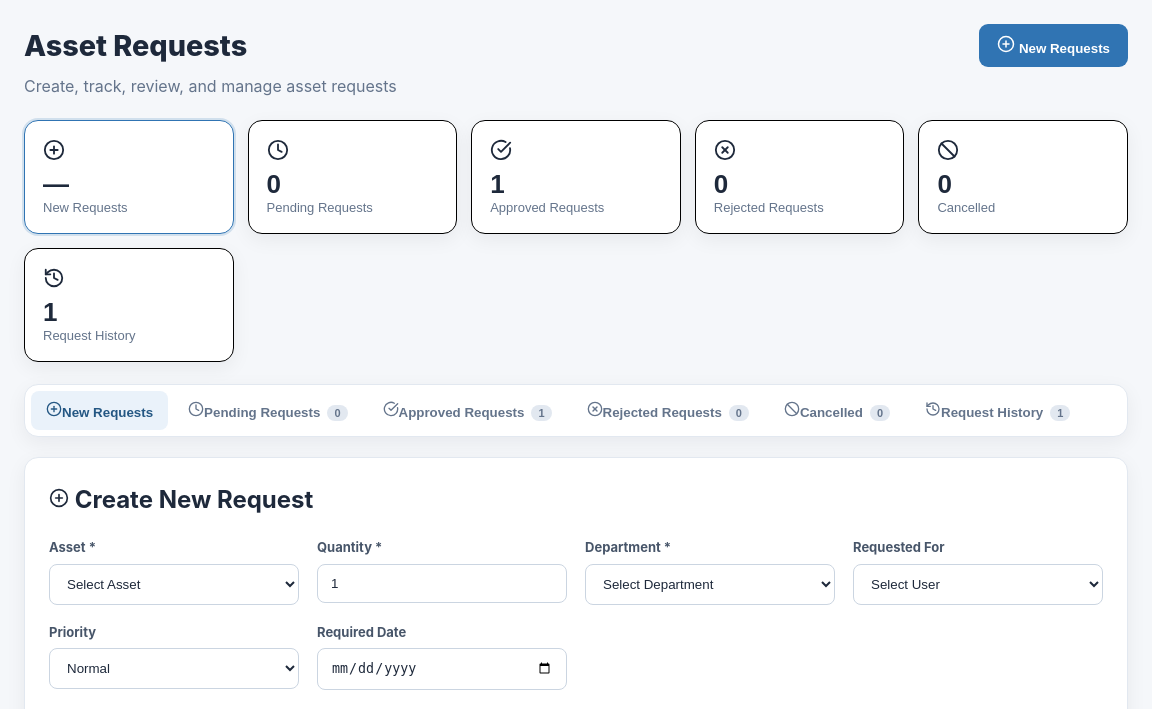
Test: cancels an approved request with a reason and refreshes its status
Click the tab with aria-label "Approved Requests tab". click: (467, 411)
box: [368,391,566,430]
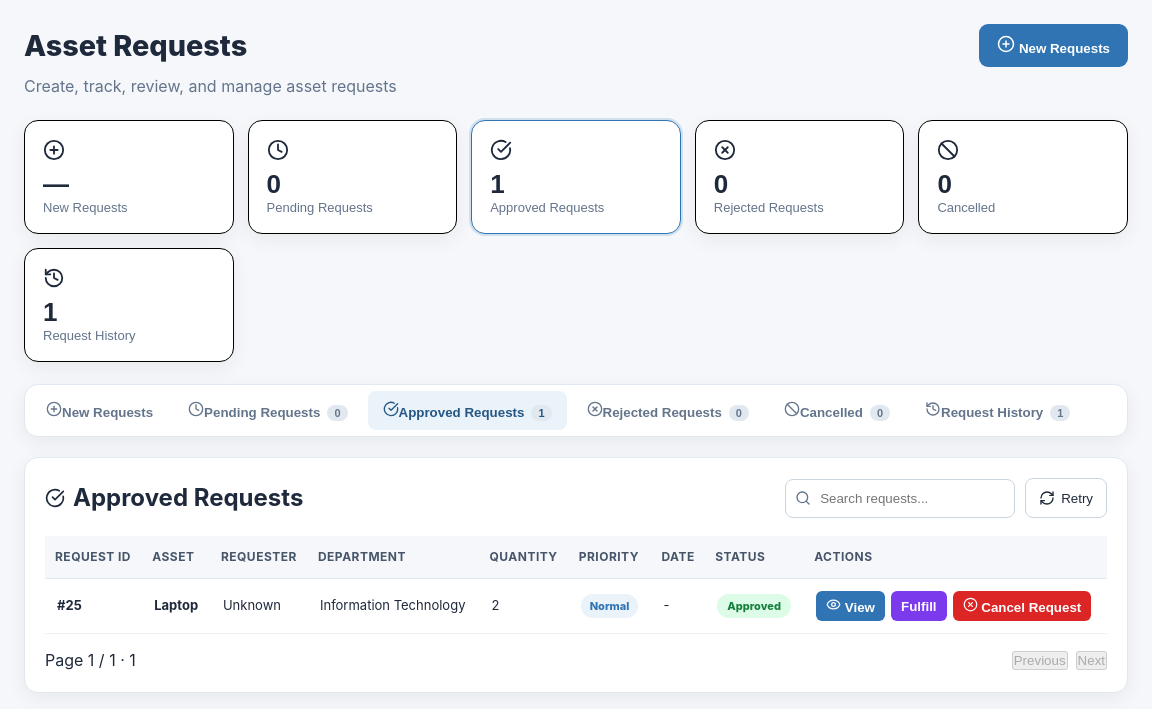
Click the button "Cancel Request". click: (1022, 606)
box: [952,591,1091,621]
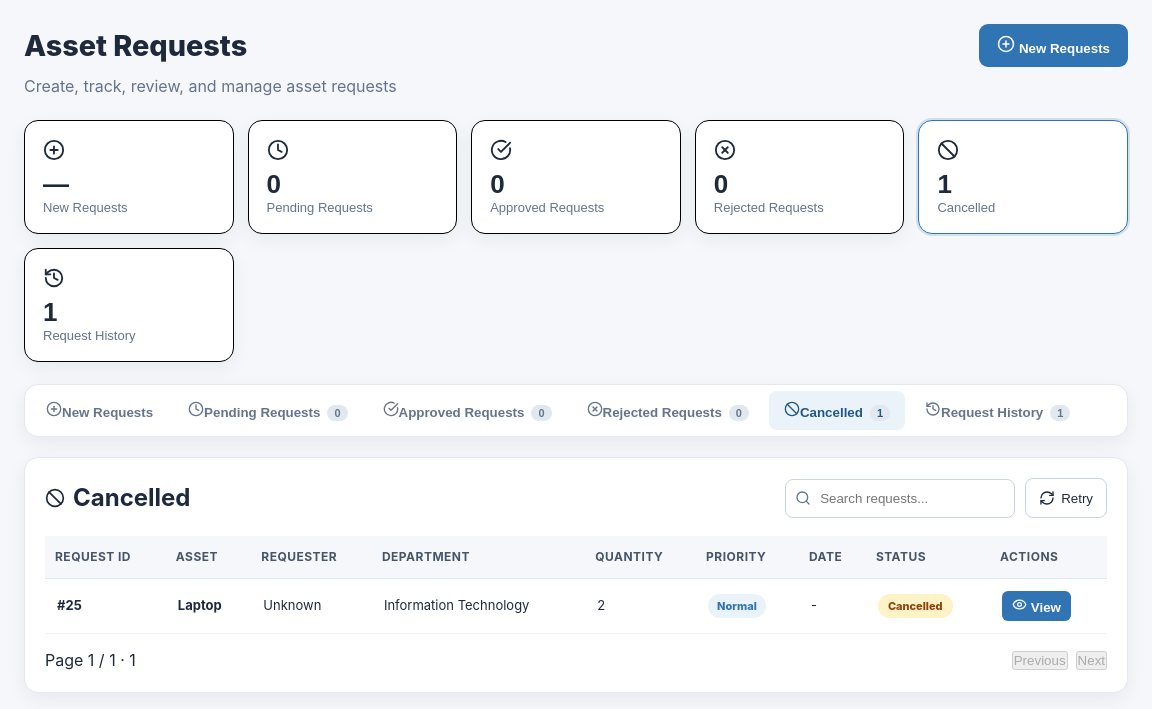
expect the cell "Cancelled" is shown: met, box [866,579,990,634]
